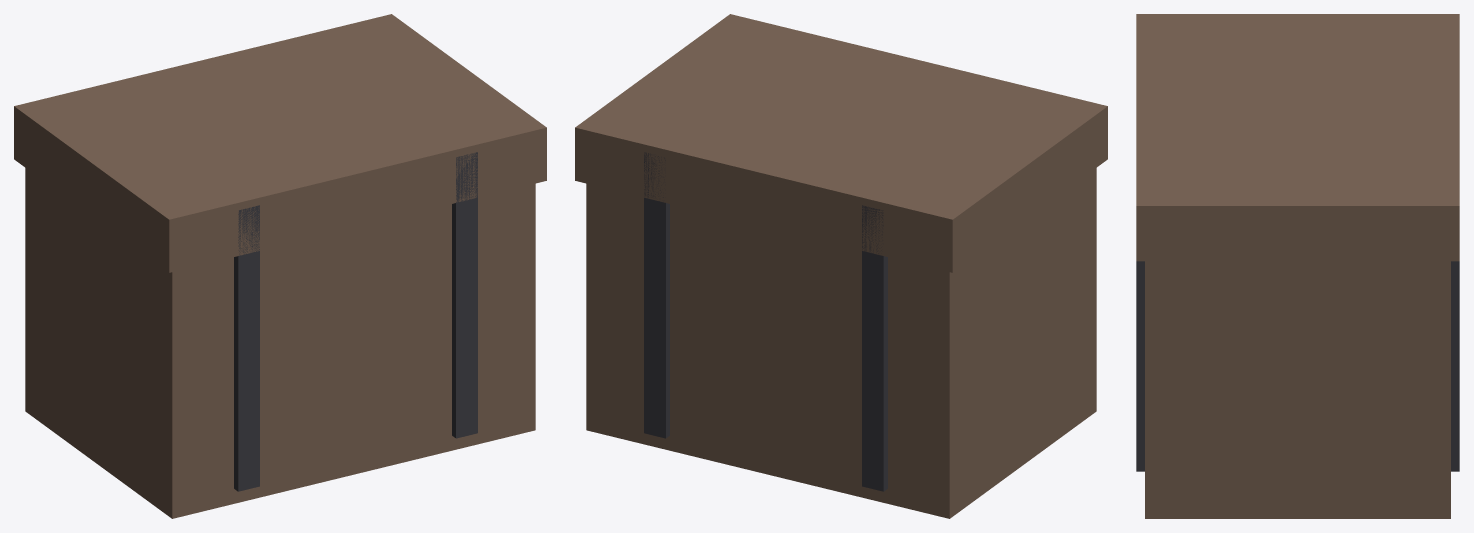
Rendered from prop_tsuzura.glb.
The picture shows the model from 3 angles, left to right: view 1: azimuth 30°, elevation 25°; view 2: azimuth 150°, elevation 25°; view 3: azimuth 270°, elevation 25°; orthographic projection. The views are drawn at different scales.
Visible parts, largest first — view 1: tsuzura; view 2: tsuzura; view 3: tsuzura.
Boxes of the visible parts, x1,y1,x2,y2 form: tsuzura: (14, 14, 546, 518); tsuzura: (575, 14, 1107, 518); tsuzura: (1136, 14, 1459, 518).
Bounding box in the file's own units: 1.04 × 0.8 × 0.74.
